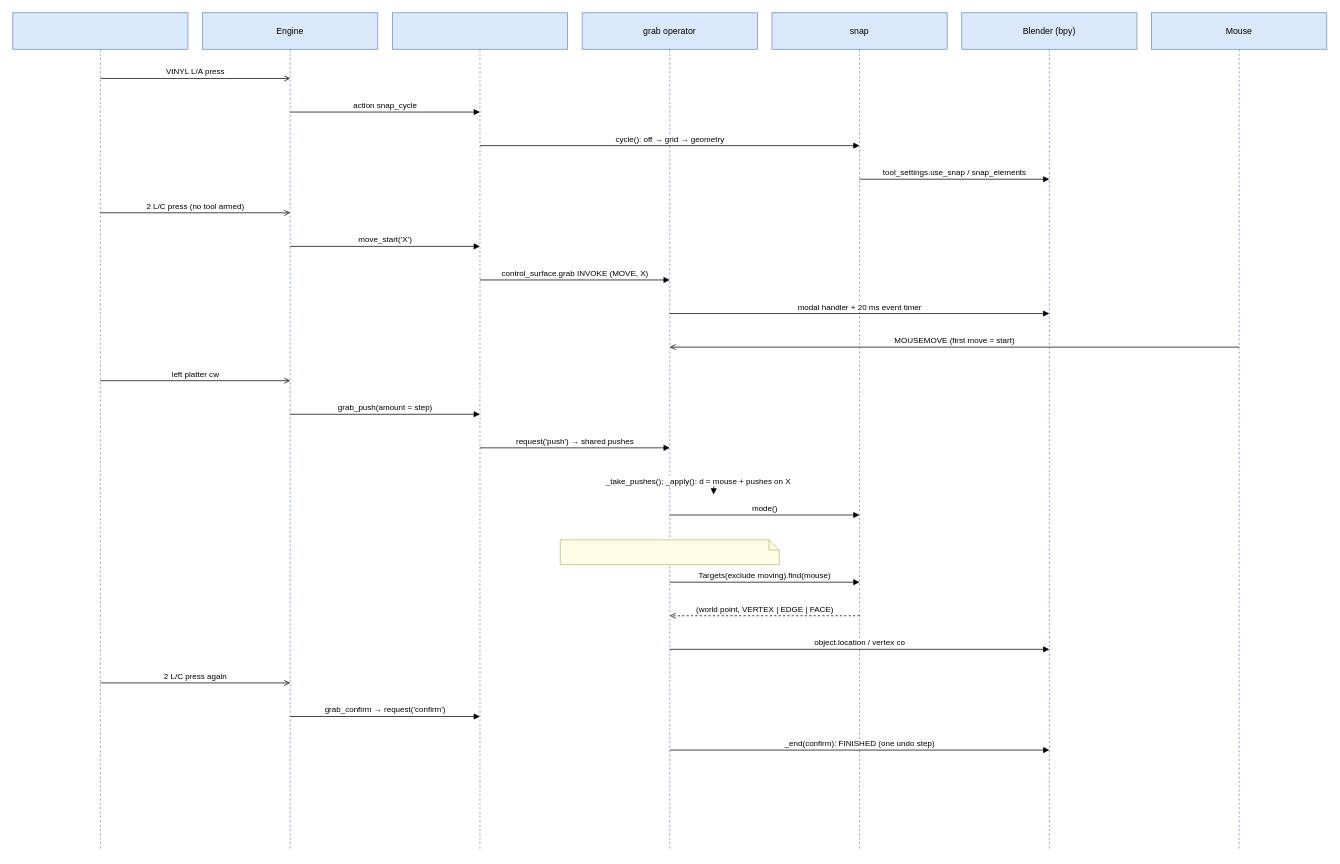
The diagram is 1340 pixels wide and 864 high, and some of its shapes have lost their labels. Here are the shapes that lost their labels. From the top down, the box of each, then its label:
(12, 12, 188, 851): 4-Mix
(392, 12, 568, 851): blender_glue
(560, 539, 779, 565): grid: round pivot + d to step; geometry: _snap_hit()
